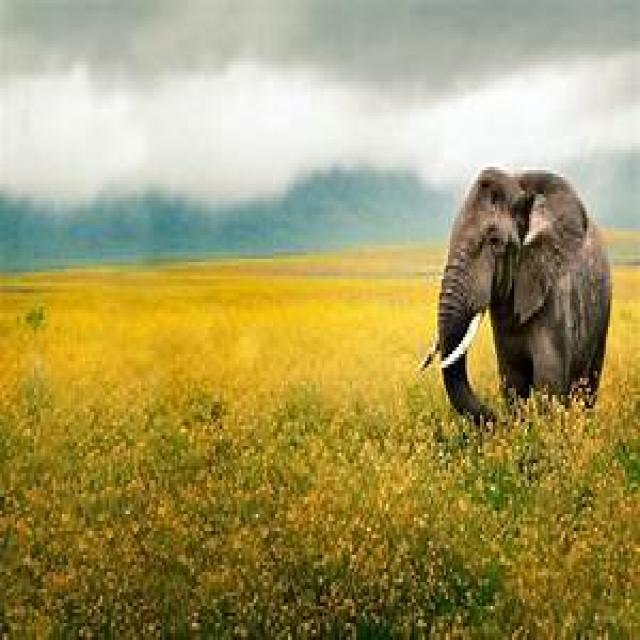elephant: (433, 167, 614, 429)
